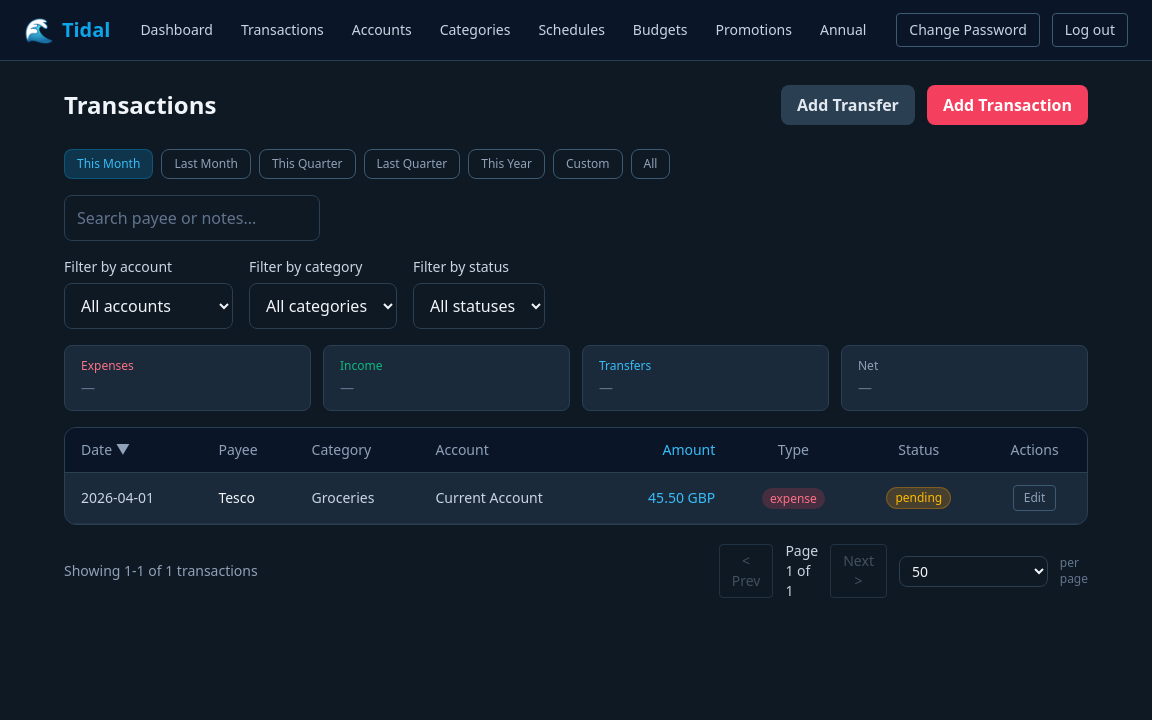
Test case: TransactionsPage › cycles status from pending to cleared when the status badge is clicked
Click the button "pending" at (919, 498), box [886, 487, 951, 509]
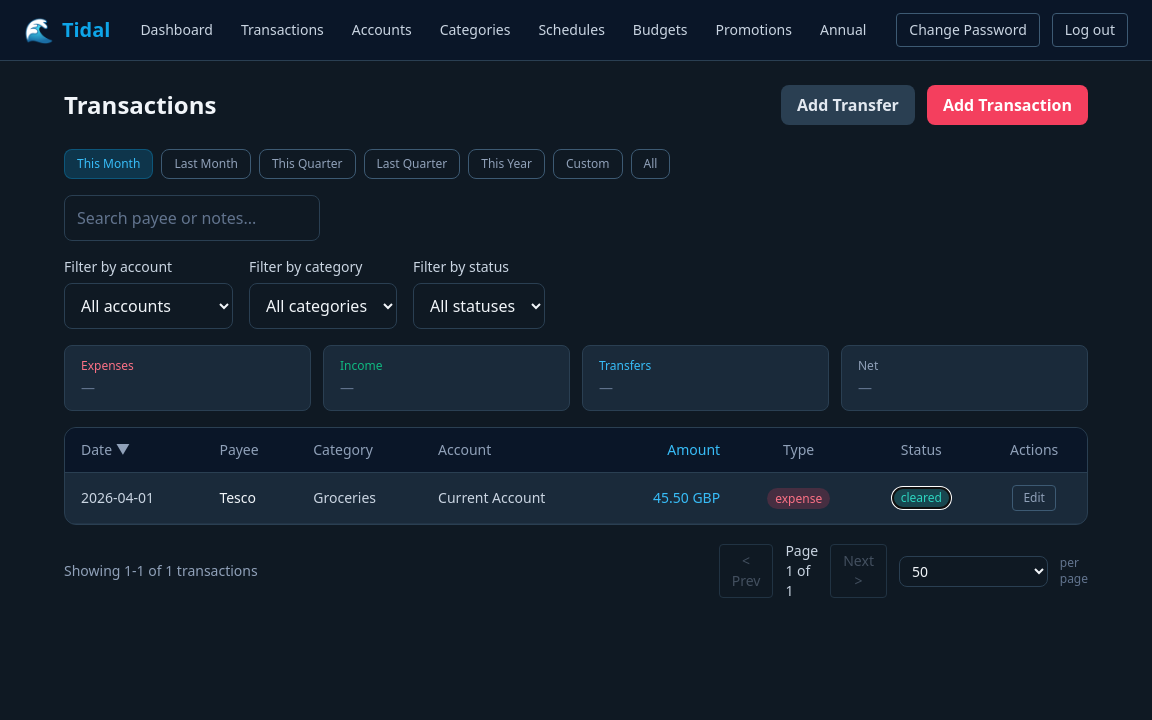
Now the button "cleared" is shown, box [892, 487, 951, 509]
